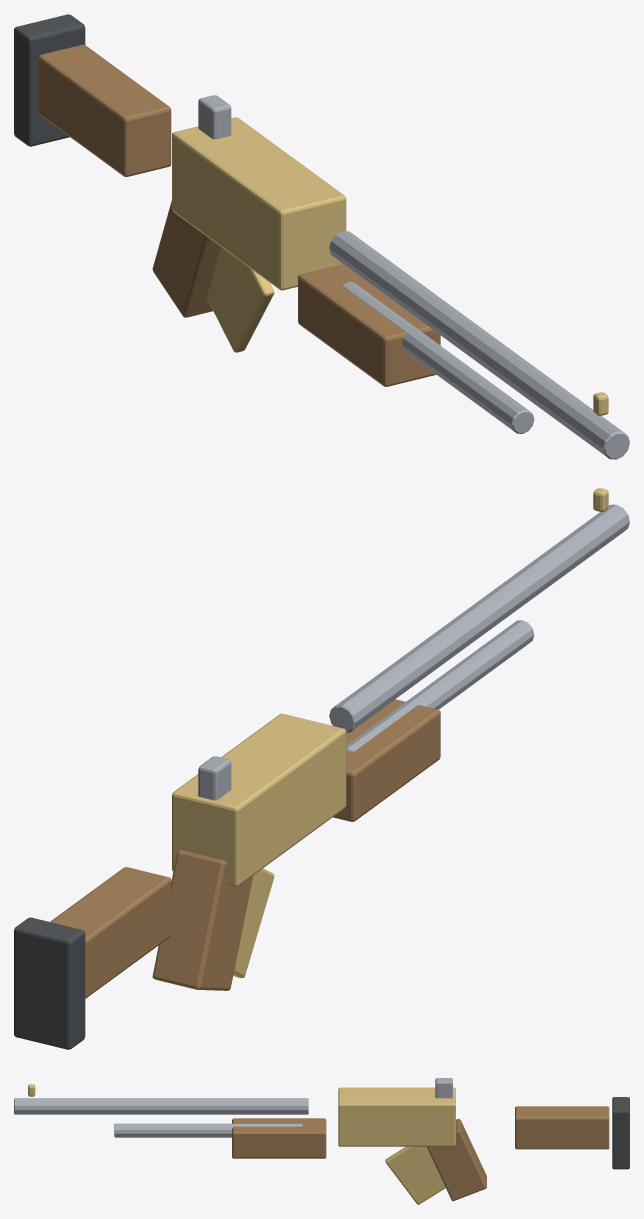
File: leveraction.glb
The picture shows the model from 3 angles, top to bottom: view 1: azimuth 30°, elevation 25°; view 2: azimuth 150°, elevation 25°; view 3: azimuth 270°, elevation 25°; orthographic projection. The views are drawn at different scales.
Parts seen in each view (by area): view 1: Receiver, Stock, Barrel, Forestock, Butt, Tube, Grip, Lever, Hammer; view 2: Receiver, Barrel, Grip, Butt, Stock, Forestock, Tube, Lever, Hammer; view 3: Receiver, Barrel, Stock, Forestock, Grip, Lever, Tube, Butt, Hammer.
Boxes of the visible parts, box(x1,y1,x2,y2) form: Receiver: box(172, 117, 346, 290); Stock: box(38, 44, 171, 176); Barrel: box(329, 231, 629, 459); Forestock: box(298, 264, 440, 386); Butt: box(14, 14, 85, 146); Tube: box(342, 282, 534, 433); Grip: box(152, 200, 220, 317); Lever: box(207, 247, 274, 352); Hammer: box(198, 95, 231, 139); Receiver: box(172, 713, 346, 886); Barrel: box(329, 504, 629, 732); Grip: box(152, 850, 252, 990); Butt: box(14, 917, 85, 1049); Stock: box(50, 867, 171, 998); Forestock: box(333, 699, 440, 821); Tube: box(346, 620, 534, 751); Lever: box(233, 868, 274, 978); Hammer: box(198, 756, 231, 800); Receiver: box(338, 1087, 455, 1146); Barrel: box(14, 1098, 308, 1114); Stock: box(515, 1106, 609, 1149); Forestock: box(232, 1118, 326, 1158); Grip: box(427, 1118, 486, 1201); Lever: box(385, 1146, 445, 1204); Tube: box(114, 1123, 302, 1137); Butt: box(612, 1097, 629, 1169); Hammer: box(435, 1078, 452, 1098).
Size of the model in its own units: 0.07 by 0.2326 by 1.05.
